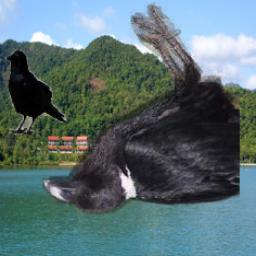Crow: (42, 2, 240, 214), (4, 49, 68, 136)
